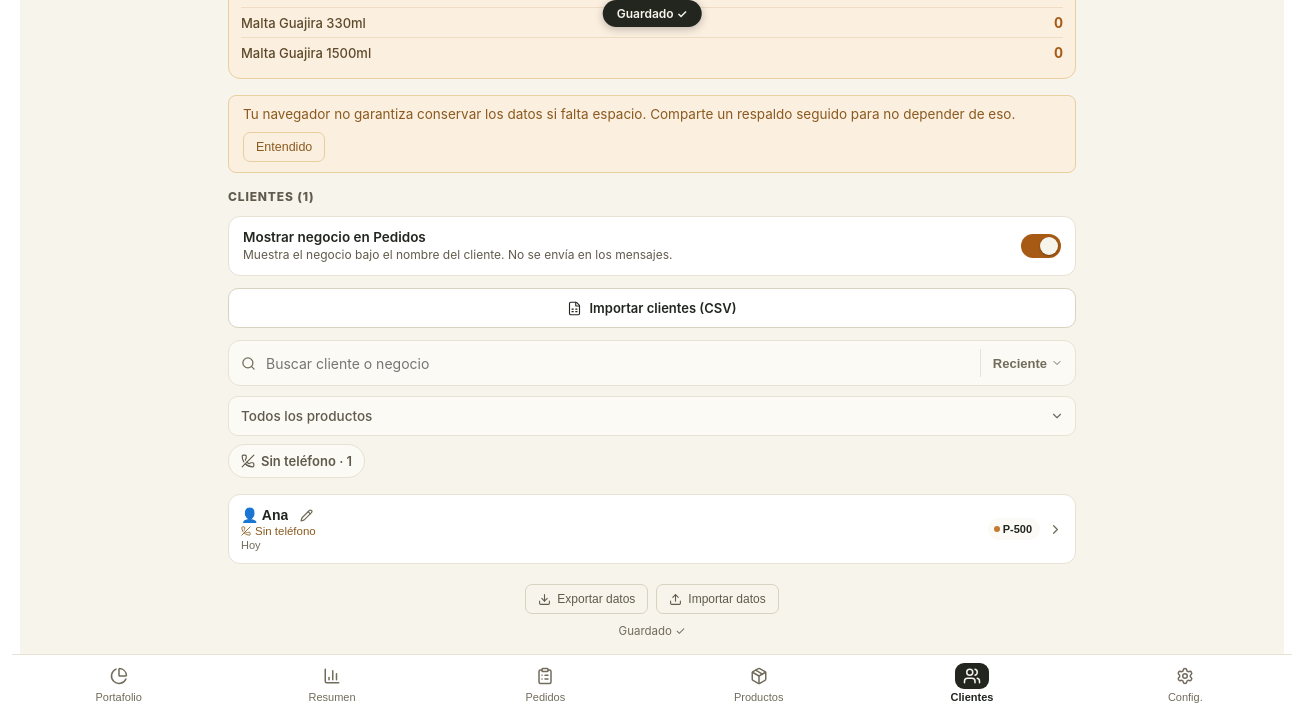
it: ficha de cliente › al abrirse entra con transición
(page scrolled)
Click the text "👤 Ana".
click(265, 515)  # box [241, 507, 288, 523]
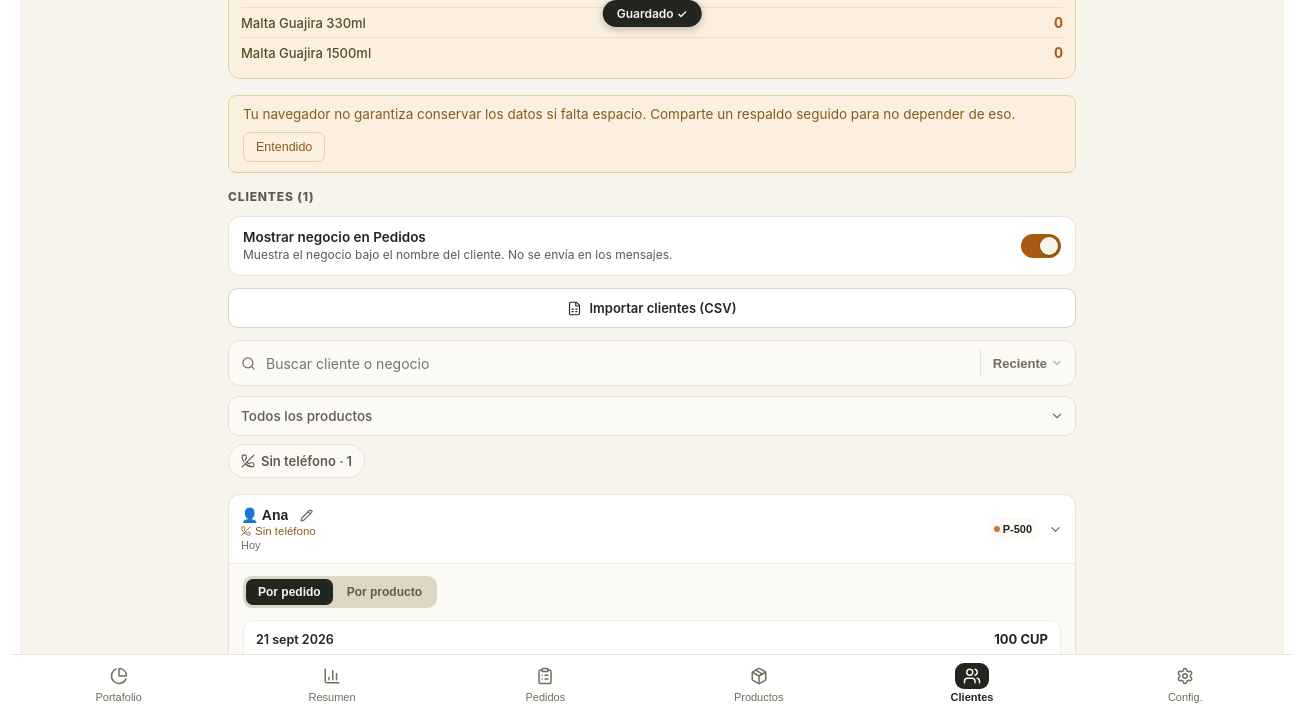
Now the element with class "expandin" is shown, box [229, 563, 1075, 707]
